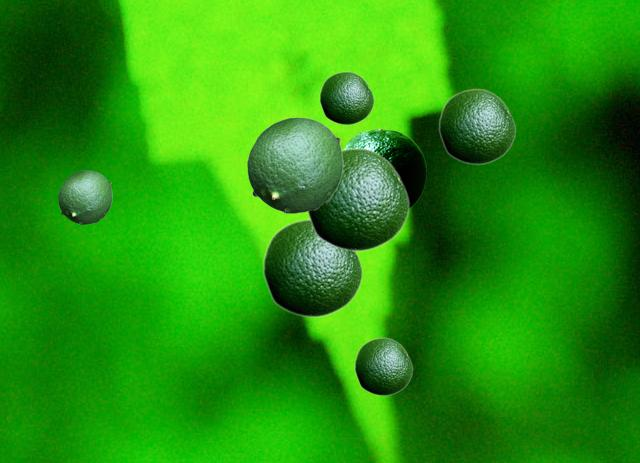calamansi: (306, 147, 409, 251), (262, 218, 362, 317), (247, 117, 342, 212), (344, 128, 425, 208), (438, 88, 515, 164), (354, 337, 412, 395), (319, 71, 373, 124), (58, 170, 111, 223)
